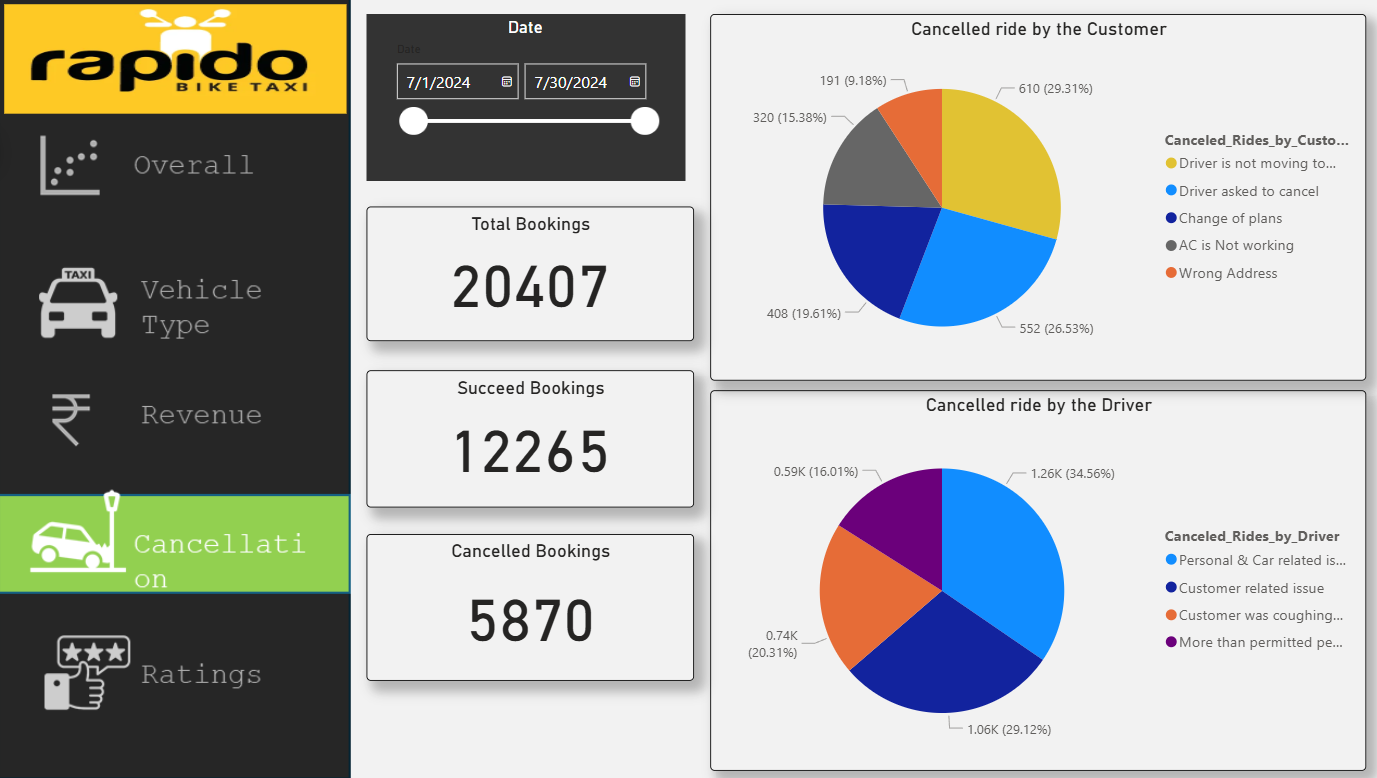

This screenshot's page, from the dashboard's own definition file:
{"tool":"powerbi","page":{"name":"Cancellation","canvas":[1280,720],"ordinal":3},"visuals":[{"type":"actionButton","box":[0,234.5,325,90.5],"z":0},{"type":"actionButton","box":[0,113.8,325,90],"z":1000},{"type":"actionButton","box":[0,341.7,325,90.5],"z":2000},{"type":"actionButton","box":[0,576.2,325,96.2],"z":3000},{"type":"pieChart","title":"Cancelled ride by the Customer","fields":{"Category":["July.Canceled_Rides_by_Customer"],"Y":["CountNonNull(July.Canceled_Rides_by_Customer)"]},"box":[655,13.8,603.8,337.5],"z":3001},{"type":"pieChart","title":"Cancelled ride by the Driver","fields":{"Category":["July.Canceled_Rides_by_Driver"],"Y":["CountNonNull(July.Canceled_Rides_by_Driver)"]},"box":[655,360,603.8,350],"z":3002},{"type":"slicer","title":"Date","fields":{"Values":["July.Date"]},"box":[338.8,13.8,292.5,153.8],"z":3003},{"type":"card","title":"Total Bookings","fields":{"Values":["CountNonNull(July.Booking_ID)"]},"box":[338.8,191.2,301.2,123.8],"z":3004},{"type":"card","title":"Succeed Bookings","fields":{"Values":["CountNonNull(July.Booking_ID)"]},"box":[338.8,341.2,301.2,126.2],"z":3005},{"type":"card","title":"Cancelled Bookings","fields":{"Values":["CountNonNull(July.Booking_ID)"]},"box":[338.8,492.5,301.2,135],"z":3006}]}

Visuals, with their boxes in screenshot pixels (x1, y1, x2, y2), scaled from the page's 1280x720 canvas onto the 1377x778 screenshot:
actionButton: (0, 253, 350, 351)
actionButton: (0, 123, 350, 220)
actionButton: (0, 369, 350, 467)
actionButton: (0, 623, 350, 727)
"Cancelled ride by the Customer" pieChart: (705, 15, 1354, 380)
"Cancelled ride by the Driver" pieChart: (705, 389, 1354, 767)
"Date" slicer: (364, 15, 679, 181)
"Total Bookings" card: (364, 207, 688, 340)
"Succeed Bookings" card: (364, 369, 688, 505)
"Cancelled Bookings" card: (364, 532, 688, 678)
